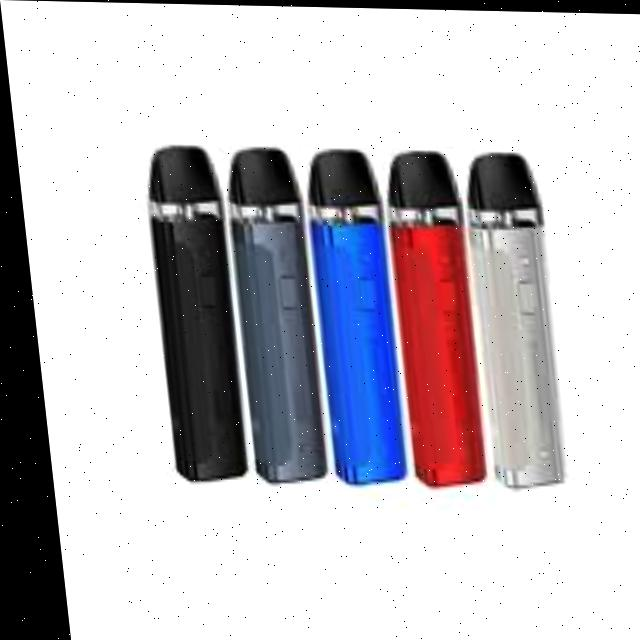vape: (377, 148, 482, 490), (136, 142, 242, 479), (217, 144, 321, 485), (458, 149, 560, 490), (299, 146, 401, 484)
